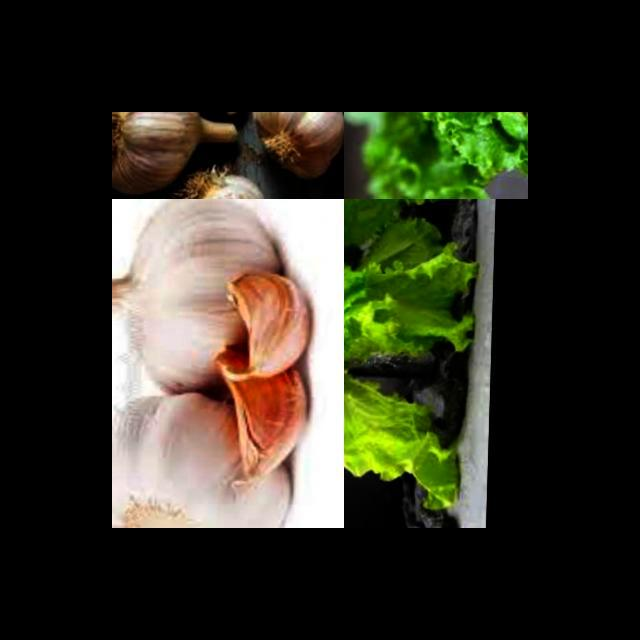garlic: (112, 199, 295, 398), (112, 381, 300, 528), (210, 326, 315, 501), (222, 261, 317, 387), (112, 112, 243, 194), (250, 112, 344, 183), (168, 159, 277, 199)
